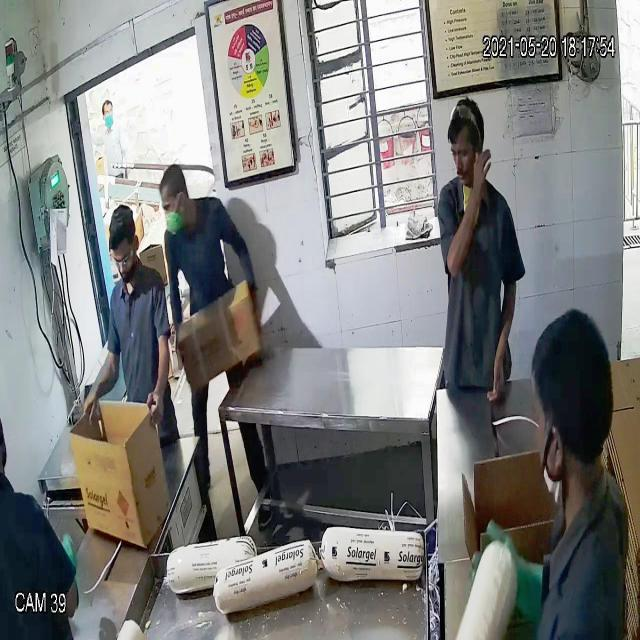glasses: (107, 243, 143, 273)
no-glass: (158, 190, 190, 214), (448, 140, 476, 164)
